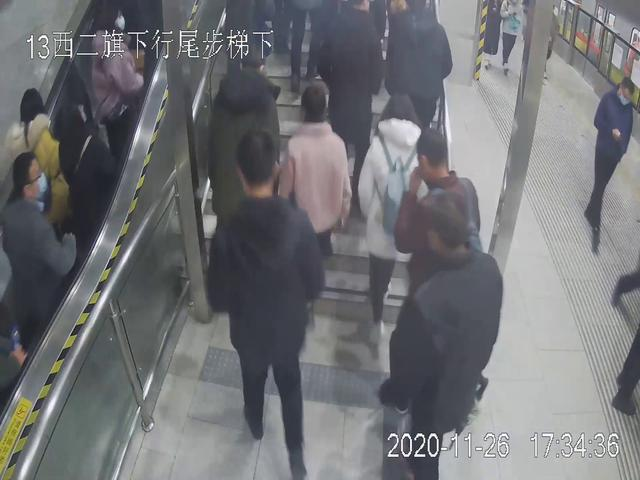person: (202, 124, 329, 474), (379, 180, 508, 480), (358, 90, 434, 341), (4, 149, 91, 366), (204, 46, 287, 237), (320, 1, 385, 213), (574, 71, 640, 260), (282, 84, 346, 257), (75, 1, 142, 156)
